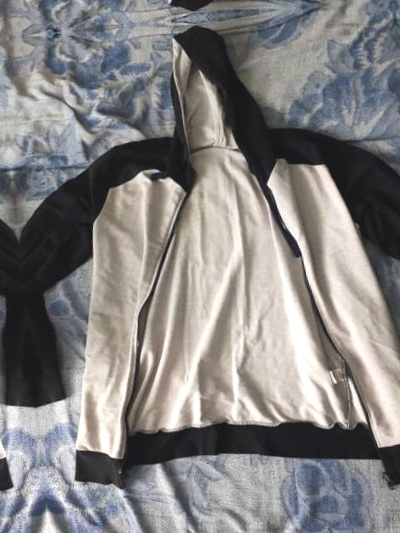Hoodie: (7, 1, 400, 517), (0, 43, 38, 533), (0, 0, 386, 34)
